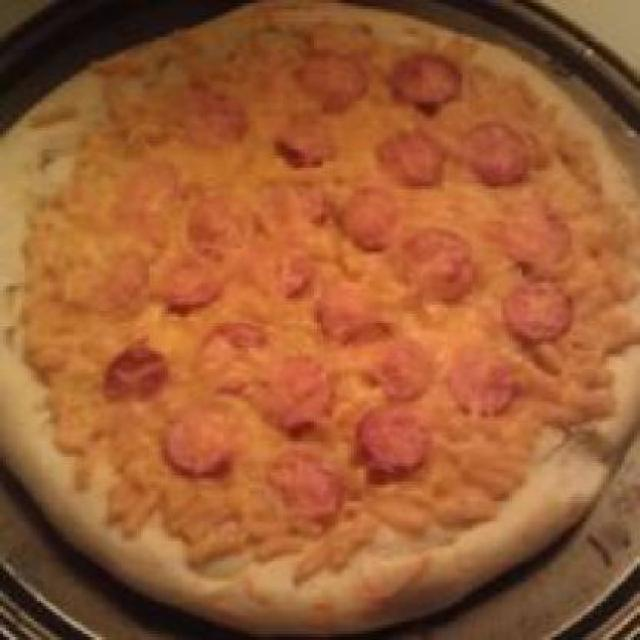hot dog: (106, 65, 572, 513)
macaroni and cheese: (31, 31, 609, 575)
